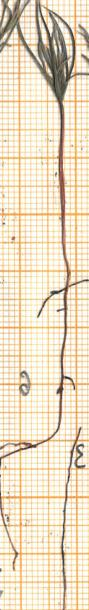flower: (19, 8, 79, 105)
root: (0, 309, 75, 457)
stem: (47, 107, 75, 305)
